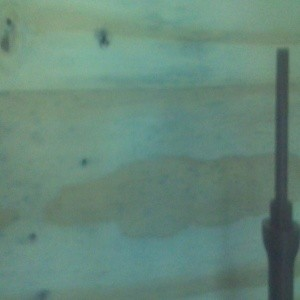obeng: (261, 47, 300, 300)
